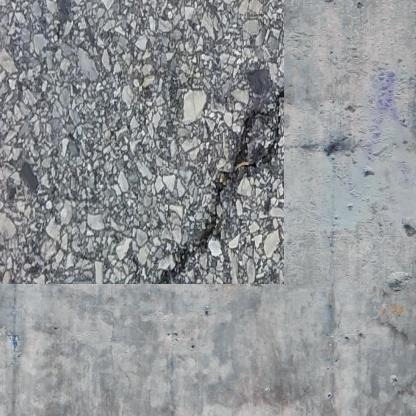Cracks: (144, 81, 263, 258)
